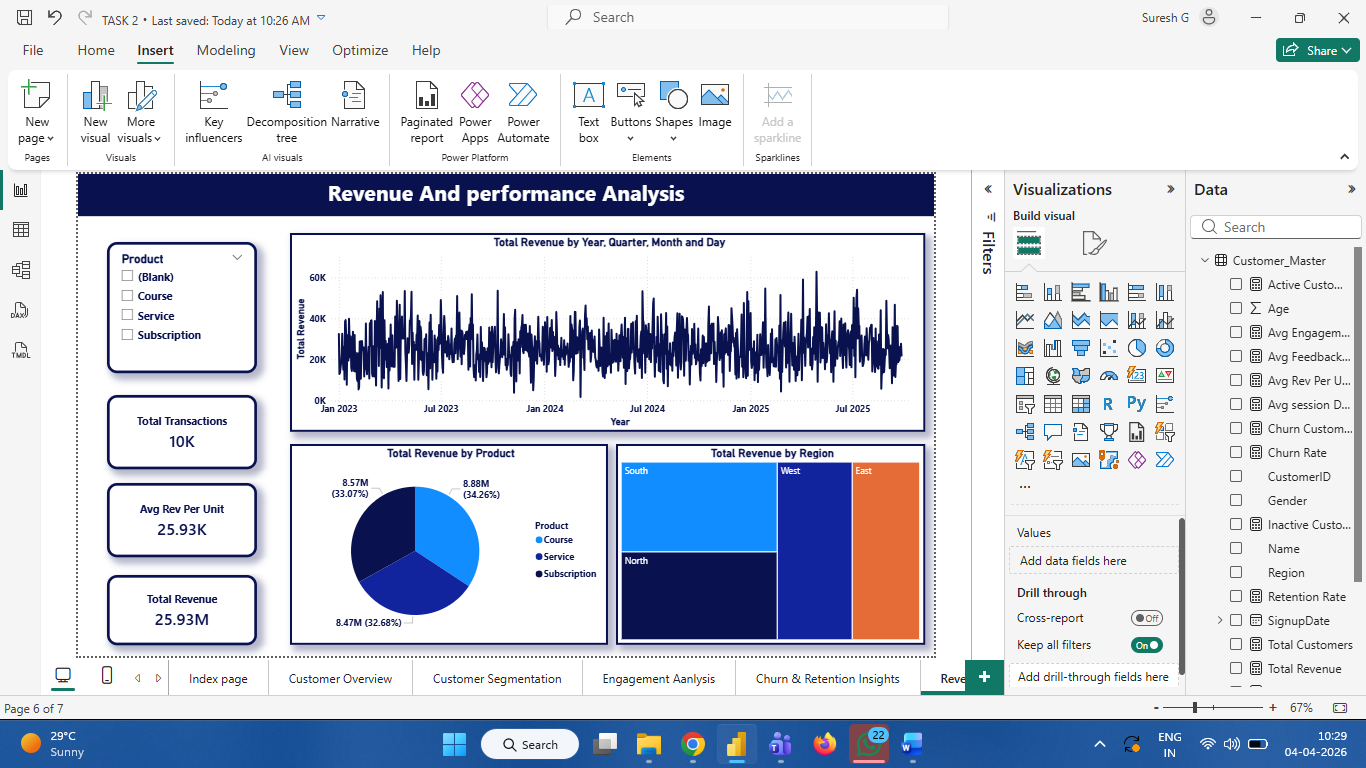

Layout of this report page (visuals, bound fields, positions):
{"tool":"powerbi","page":{"name":"Revenue & Performance Analysis","canvas":[1280,720],"ordinal":5},"visuals":[{"type":"textbox","box":[0,0,1280,63.3],"z":0},{"type":"cardVisual","fields":{"Data":["Customer_Master.Total Revenue"]},"box":[43.3,599,224.1,104.6],"z":1000},{"type":"cardVisual","fields":{"Data":["Customer_Master.Avg Rev Per Unit"]},"box":[43.3,461.6,224.1,110.5],"z":2000},{"type":"lineChart","fields":{"Y":["Customer_Master.Total Revenue"],"Category":["Customer_Master.SignupDate.Variation.Date Hierarchy.Year","Customer_Master.SignupDate.Variation.Date Hierarchy.Quarter","Customer_Master.SignupDate.Variation.Date Hierarchy.Month","Customer_Master.SignupDate.Variation.Date Hierarchy.Day"]},"box":[316.7,88.1,948.5,297.3],"z":3000},{"type":"pieChart","fields":{"Y":["Customer_Master.Total Revenue"],"Series":["Transactions.Product"]},"box":[316.7,403.3,475,300.2],"z":4000},{"type":"treemap","fields":{"Group":["Customer_Master.Region"],"Values":["Customer_Master.Total Revenue"]},"box":[803.7,403.3,461.6,300.2],"z":5000},{"type":"cardVisual","fields":{"Data":["Customer_Master.Customer Growth"]},"box":[43.3,330.1,224.1,110.5],"z":6000},{"type":"slicer","fields":{"Values":["Transactions.Product"]},"box":[43.3,101.6,224.1,195.7],"z":7000},{"type":"actionButton","box":[1165.1,10.5,100.1,40.3],"z":8000}]}

Visuals, with their boxes on the page's 1280x720 design canvas (x1, y1, x2, y2). These are canvas units, not pixel positions in the 1366x768 screenshot, which may show the page scaled, cropped or inside an application window:
textbox: x1=0, y1=0, x2=1280, y2=63
cardVisual - Customer_Master.Total Revenue: x1=43, y1=599, x2=267, y2=704
cardVisual - Customer_Master.Avg Rev Per Unit: x1=43, y1=462, x2=267, y2=572
lineChart - Customer_Master.Total Revenue x Customer_Master.SignupDate.Variation.Date Hierarchy.Year: x1=317, y1=88, x2=1265, y2=385
pieChart - Customer_Master.Total Revenue x Transactions.Product: x1=317, y1=403, x2=792, y2=704
treemap - Customer_Master.Region x Customer_Master.Total Revenue: x1=804, y1=403, x2=1265, y2=704
cardVisual - Customer_Master.Customer Growth: x1=43, y1=330, x2=267, y2=441
slicer - Transactions.Product: x1=43, y1=102, x2=267, y2=297
actionButton: x1=1165, y1=10, x2=1265, y2=51
